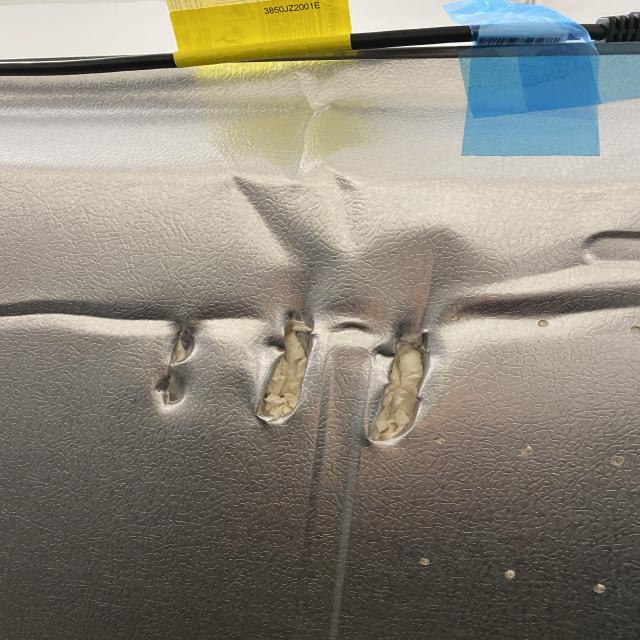dents: (0, 135, 629, 506)
